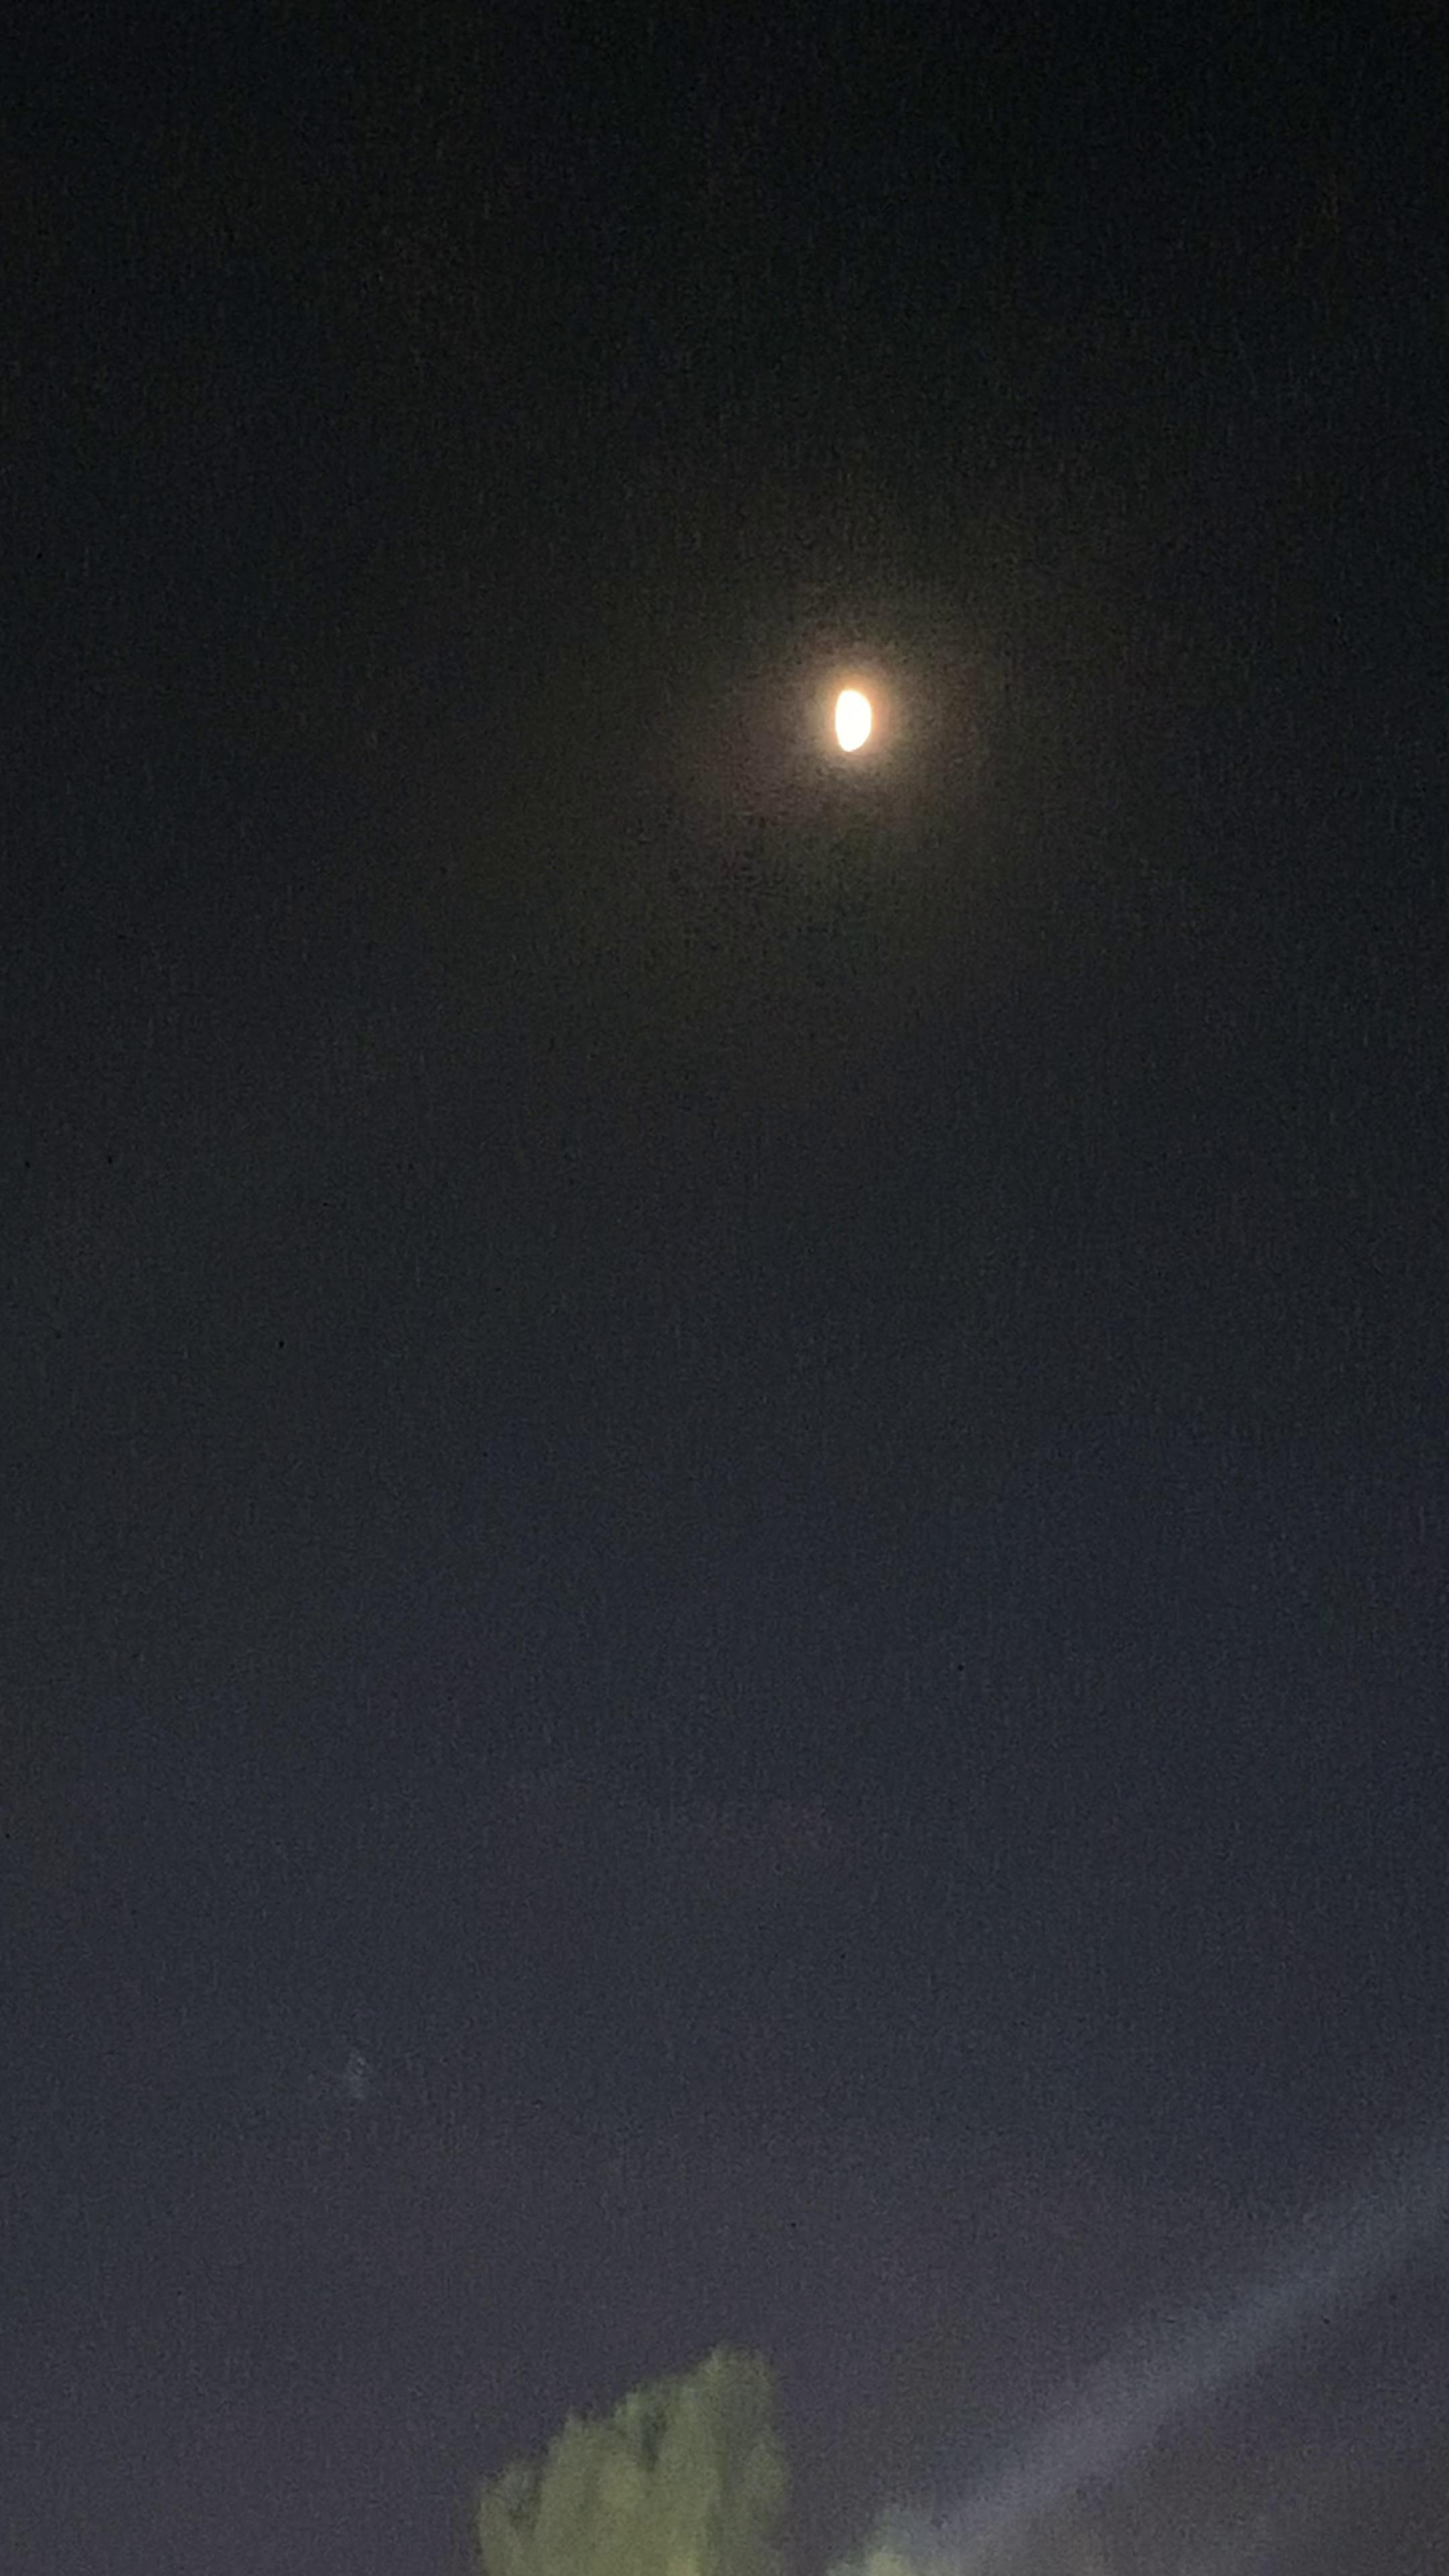moon: (809, 640, 925, 770)
